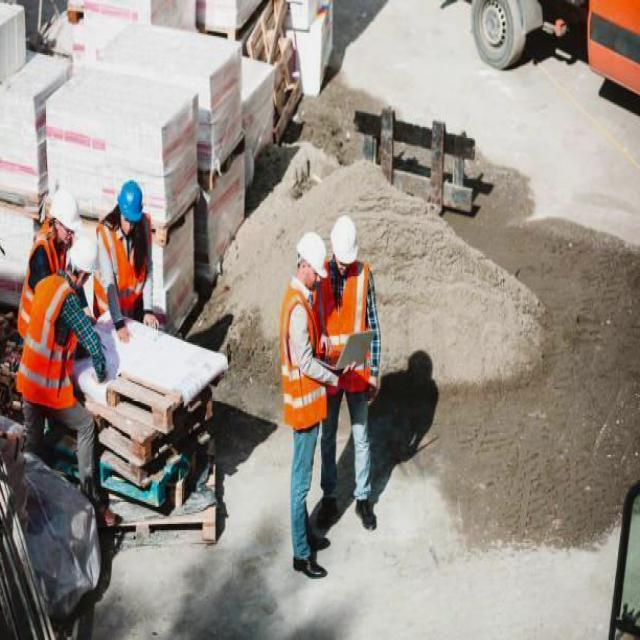hand_noglove: (139, 311, 159, 334), (117, 322, 129, 346)
head_helmet: (292, 234, 328, 278), (48, 190, 81, 230), (332, 215, 359, 263), (68, 239, 102, 276), (117, 179, 144, 221)
person: (328, 210, 376, 505), (288, 237, 328, 585), (25, 243, 95, 408), (17, 184, 82, 336), (97, 190, 153, 337)
shoes: (287, 550, 333, 583), (353, 492, 383, 536), (316, 491, 342, 530)
vest: (285, 293, 324, 425), (34, 284, 73, 405), (98, 227, 154, 306), (326, 268, 370, 364), (39, 237, 67, 325)
